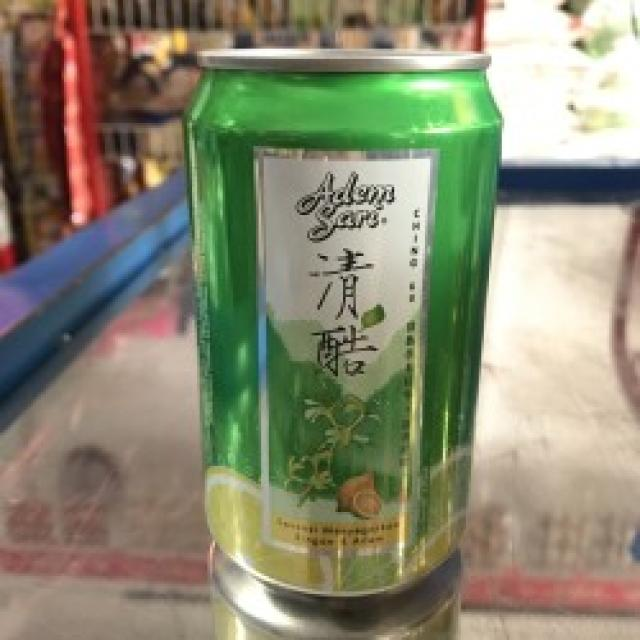ademsarikaleng: (180, 43, 504, 638)
